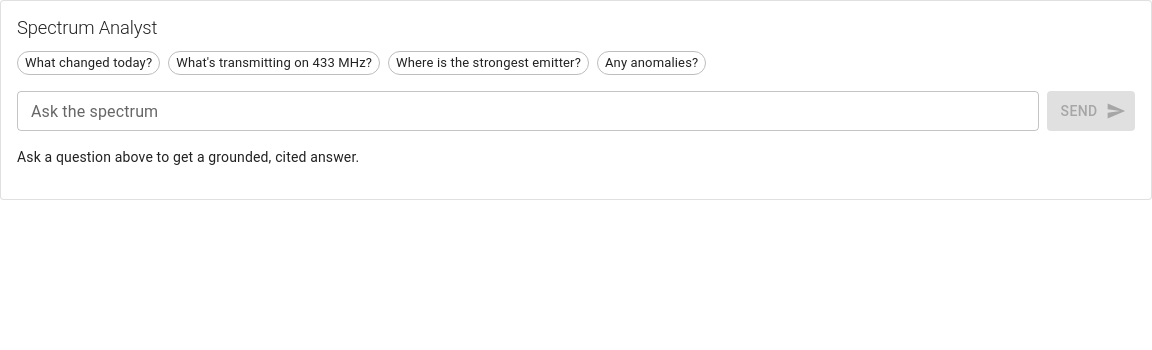
Test: Analyst › submits on Enter key press
Type "What changed today?" into the field with placeholder "Ask about signals, devices, emitters, or alerts…" at (528, 111), box [17,91,1039,131]
Then press Enter
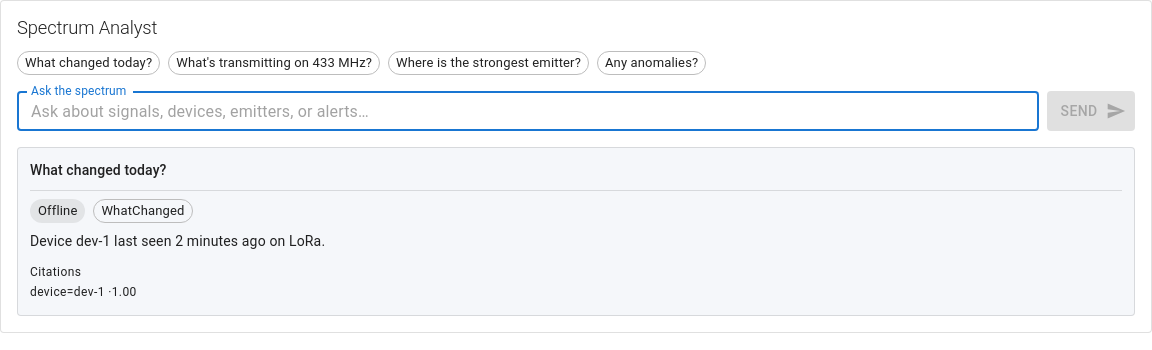
Result: the text "Device dev-1 last seen 2 minutes ago on LoRa." is shown at [30,233,325,249]
